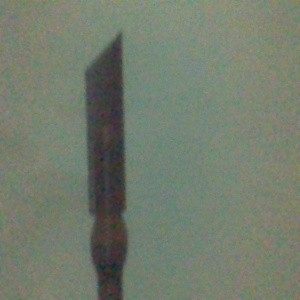cutter: (83, 30, 129, 300)
